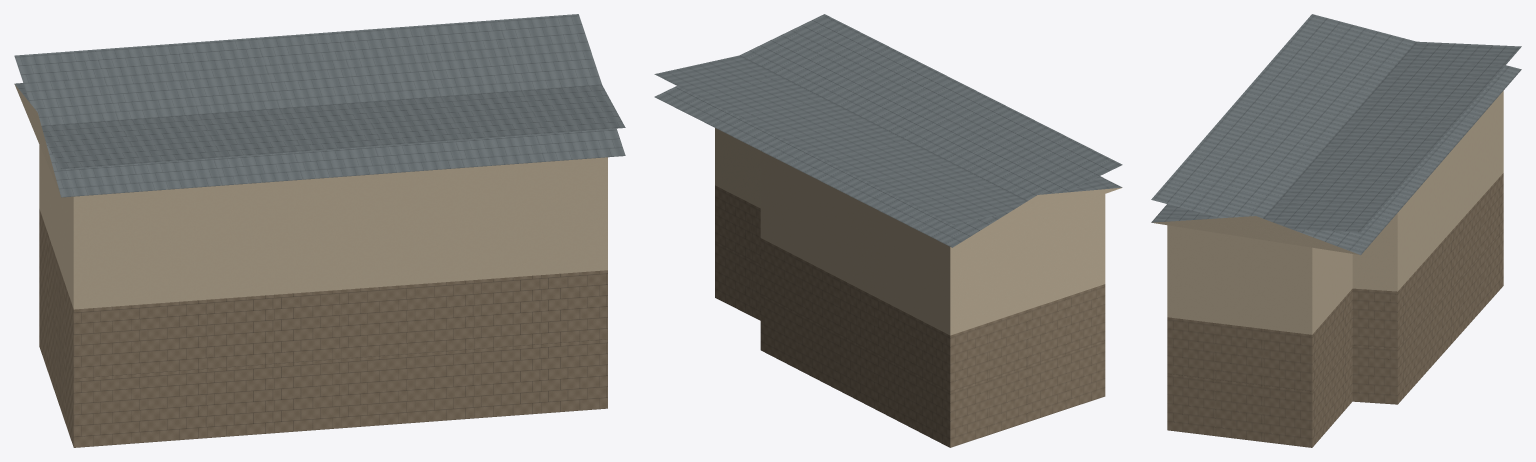
Rendered from bld_c-12_41_531.gltf.
The picture shows the model from 3 angles, left to right: view 1: azimuth 30°, elevation 25°; view 2: azimuth 150°, elevation 25°; view 3: azimuth 270°, elevation 25°; orthographic projection. The views are drawn at different scales.
Parts seen in each view (by area): view 1: bld_c-12_41_531; view 2: bld_c-12_41_531; view 3: bld_c-12_41_531.
Boxes of the visible parts, <box> form: bld_c-12_41_531: <box>14,14,625,447</box>; bld_c-12_41_531: <box>654,14,1122,447</box>; bld_c-12_41_531: <box>1151,14,1521,447</box>.
Bounding box in the file's own units: 20.43 × 10.2 × 14.67.
4 materials, 4 textured.
